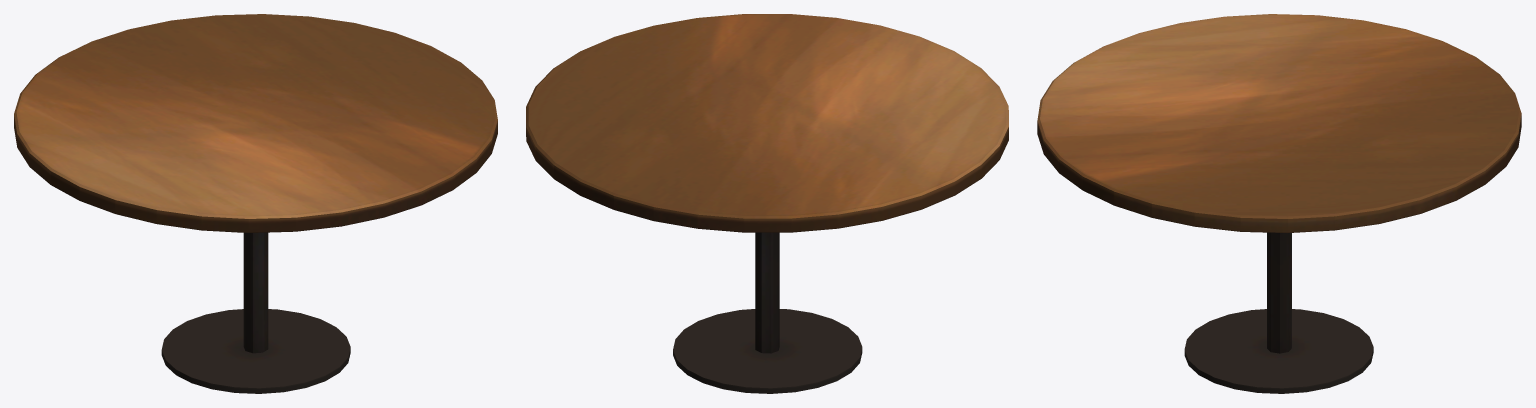
File: mesa_redonda.glb
3 renders of one model, left to right at view 1: azimuth 30°, elevation 25°; view 2: azimuth 150°, elevation 25°; view 3: azimuth 270°, elevation 25°, orthographic.
Parts seen in each view (by area): view 1: Mesa; view 2: Mesa; view 3: Mesa.
Part boxes in pixels (x1,y1,x2,y2): Mesa: (14,14,497,393); Mesa: (526,14,1008,393); Mesa: (1037,14,1521,393).
Size of the model in its own units: 5.98 by 3.26 by 5.98.
Materials: 1 (1 with a texture image).
